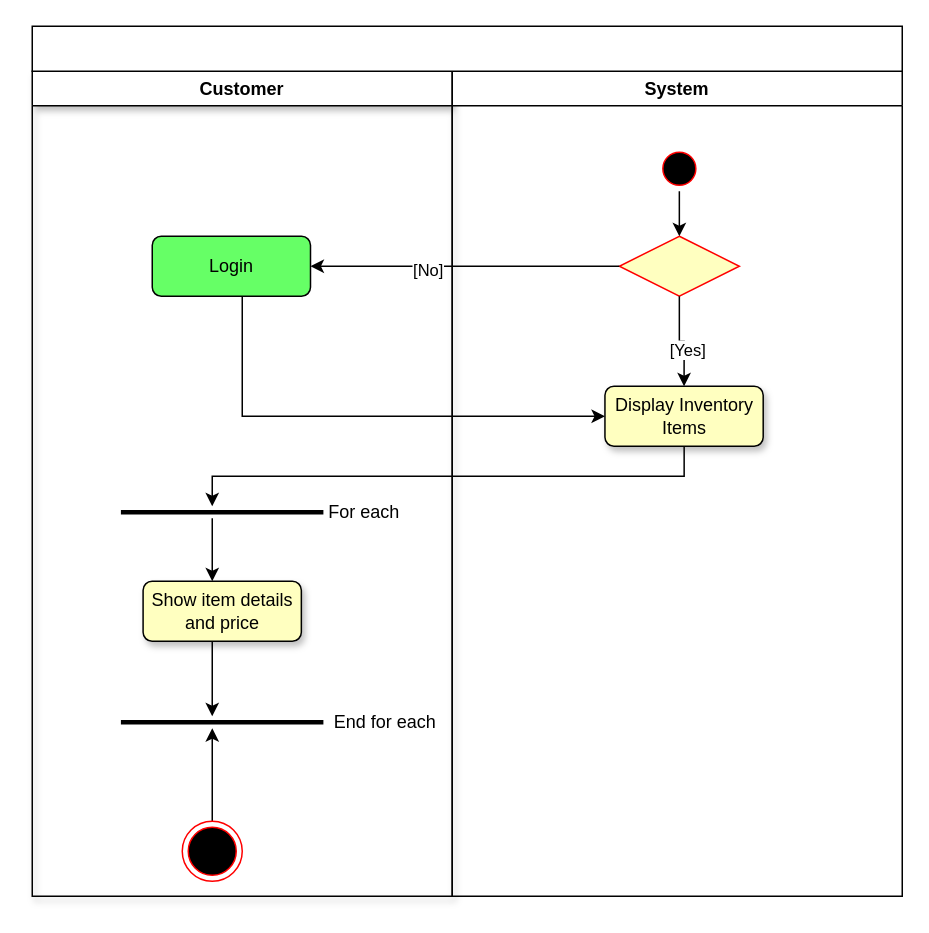
Some shapes in this 929 by 933 pixel diagram are drawn without their labels. The shapes that lost their labels are listed below. From the top down, each one's centre as x and y in pixels, then its label:
At [466,48]: "Search Order".
At [678,265]: "Is login?".
